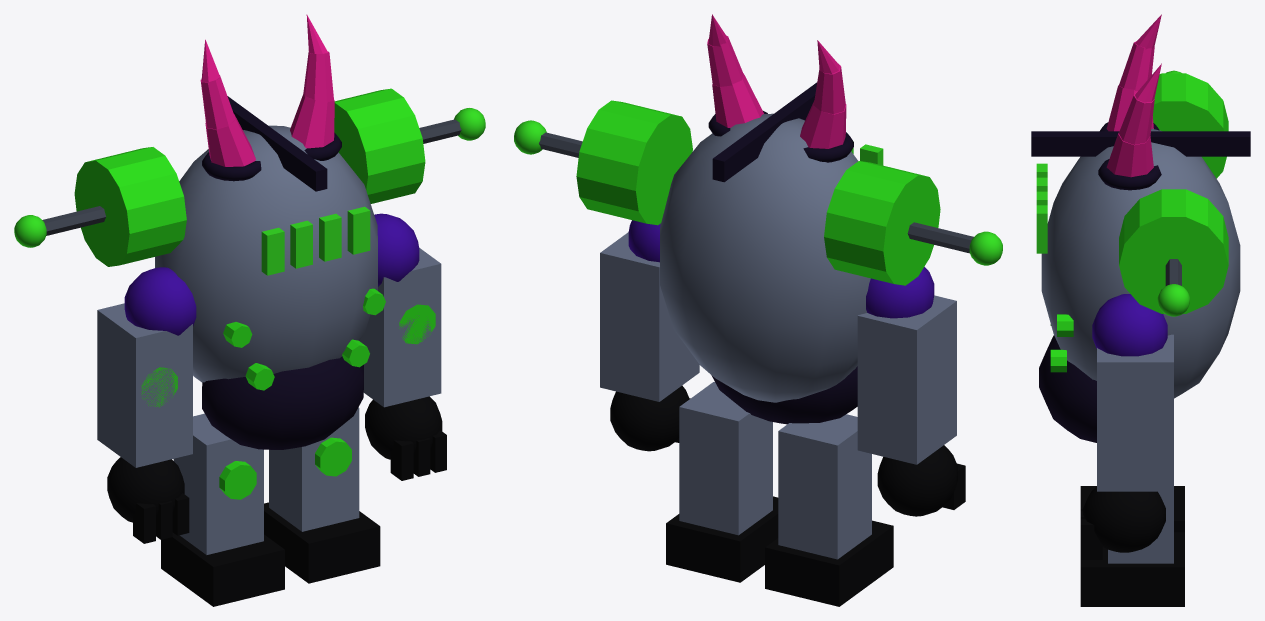
Rendered from Enemy_crusher.fbx.
The picture shows the model from 3 angles, left to right: view 1: azimuth 30°, elevation 25°; view 2: azimuth 150°, elevation 25°; view 3: azimuth 270°, elevation 25°; orthographic projection. The views are drawn at different scales.
Parts seen in each view (by area): view 1: Enemy_crusher; view 2: Enemy_crusher; view 3: Enemy_crusher.
Part boxes in pixels (x1=…): Enemy_crusher: x1=14, y1=14, x2=485, y2=606; Enemy_crusher: x1=514, y1=14, x2=1002, y2=606; Enemy_crusher: x1=1031, y1=14, x2=1250, y2=606.
Bounding box in the file's own units: 0.9776 × 1.06 × 0.4.
